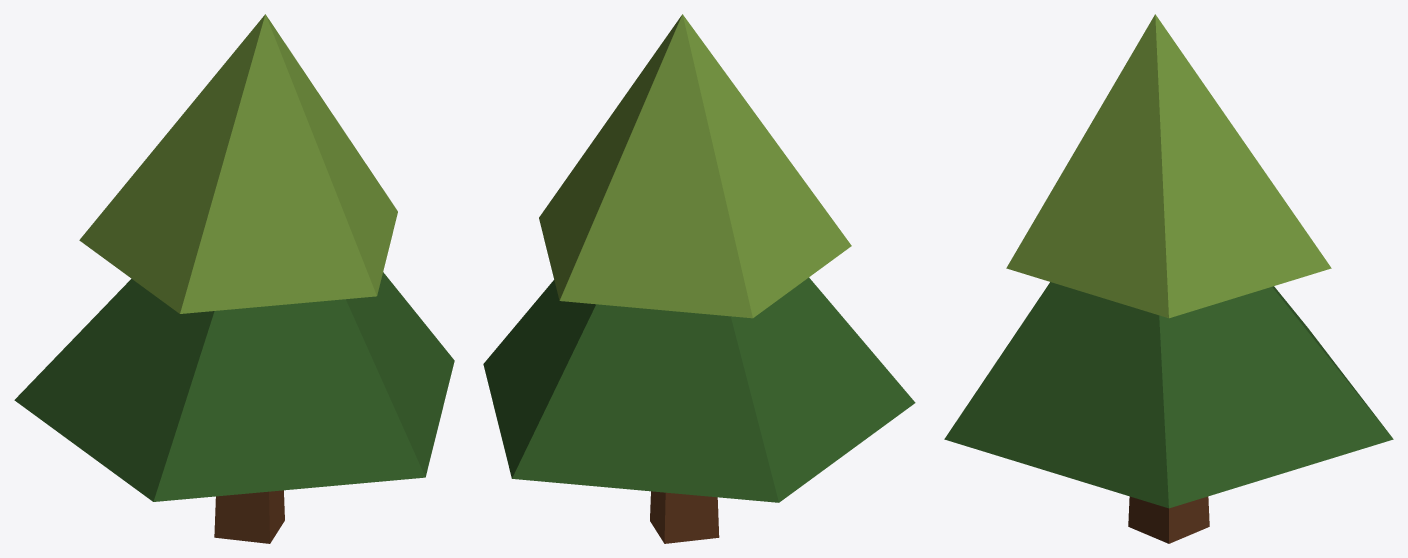
Rendered from Pine.fbx.
3 views of the same model, side by side, from view 1: azimuth 30°, elevation 25°; view 2: azimuth 150°, elevation 25°; view 3: azimuth 270°, elevation 25° (orthographic).
Parts seen in each view (by area): view 1: Pine; view 2: Pine; view 3: Pine.
Boxes of the visible parts, left/top/right/bottom form: Pine: left=14, top=14, right=454, bottom=543; Pine: left=483, top=14, right=915, bottom=543; Pine: left=944, top=14, right=1393, bottom=543.
Bounding box in the file's own units: 52.46 × 70 × 55.16.
